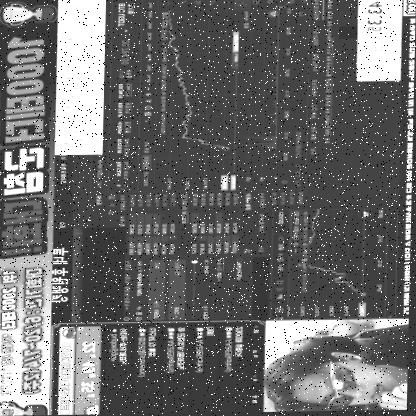streamer: (266, 324, 410, 413)
